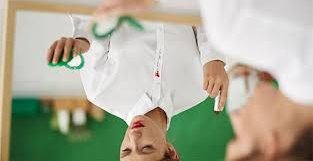lipstick: (153, 63, 160, 79)
